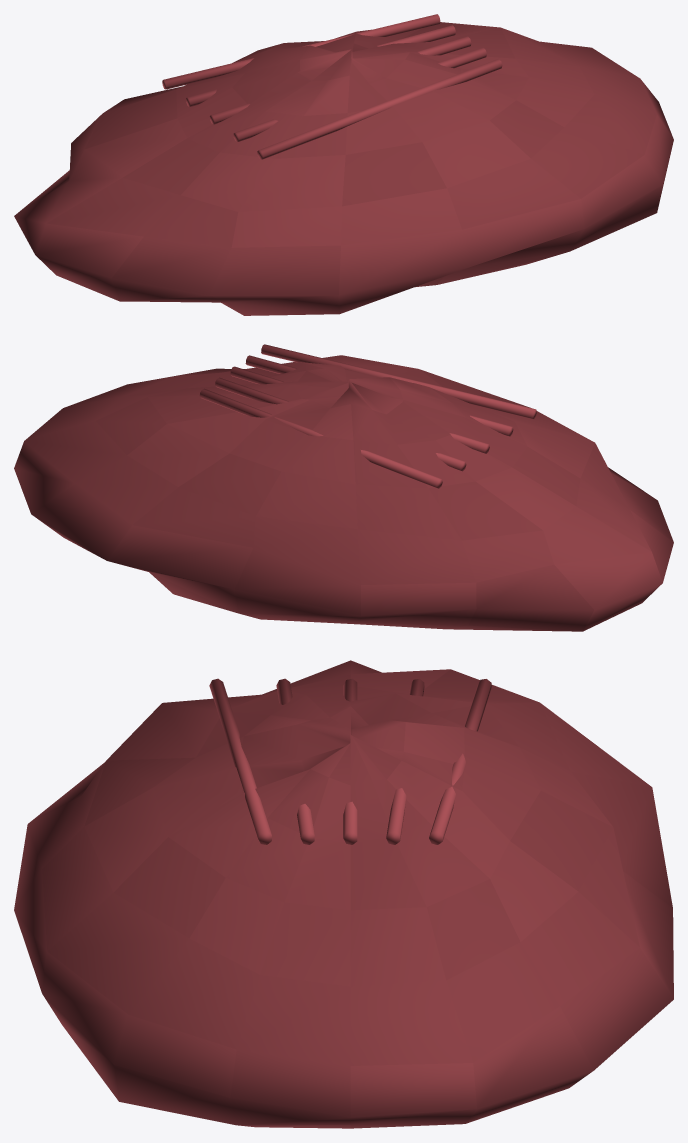
File: Goat.glb
3 views of the same model, one above another, from view 1: azimuth 30°, elevation 25°; view 2: azimuth 150°, elevation 25°; view 3: azimuth 270°, elevation 25° (orthographic). The views are drawn at different scales.
Visible parts, largest first — view 1: Goat; view 2: Goat; view 3: Goat.
Part boxes in pixels (box(x1,y1,x2,y2)): Goat: box(14, 14, 673, 315); Goat: box(14, 344, 673, 631); Goat: box(14, 660, 673, 1128).
Size of what is drawn, in the model's own units: 0.1653 by 0.0502 by 0.1082.
